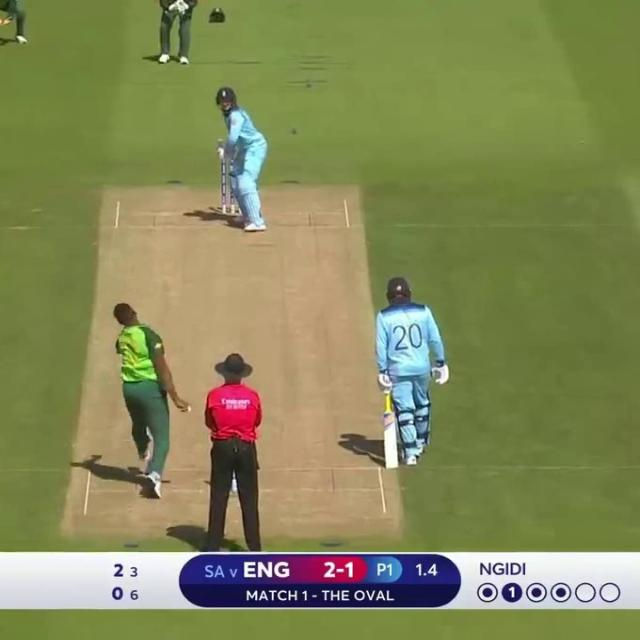bat: (382, 412, 400, 469), (218, 144, 225, 157)
toe: (384, 464, 400, 468)
